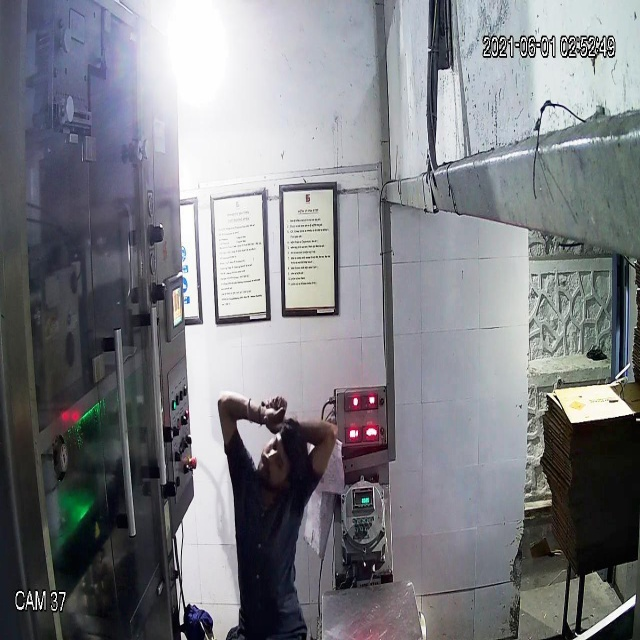Sin_gafas: (261, 428, 301, 481)
